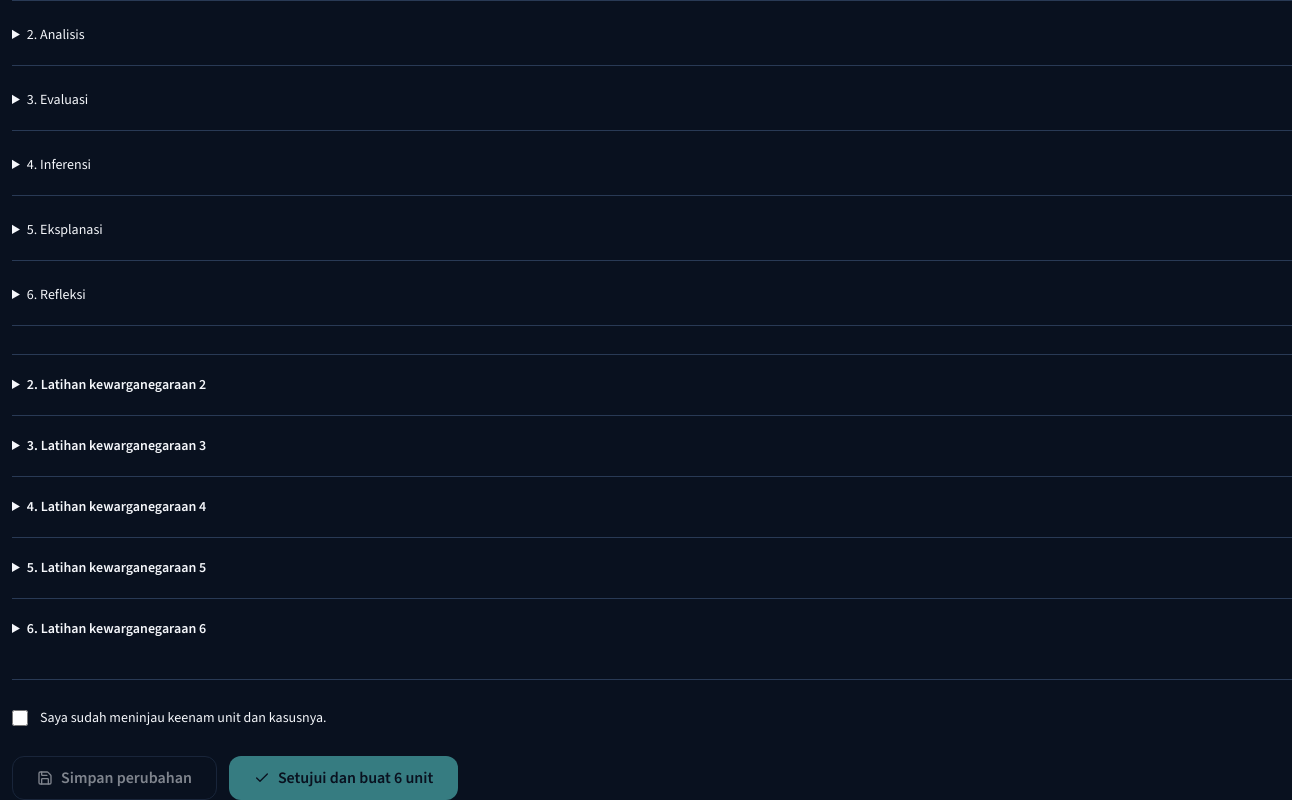
Test: pembuatan enam unit untuk dosen › tidak menerapkan otomatis sebelum dosen meninjau
The width and height of the screenshot is (1292, 800).
(page scrolled)
Expected: the button "Setujui dan buat 6 unit" is disabled, [229,756,458,799]
Click the checkbox labelled "Saya sudah meninjau keenam unit dan kasusnya.": (20, 718) [12,710,28,726]
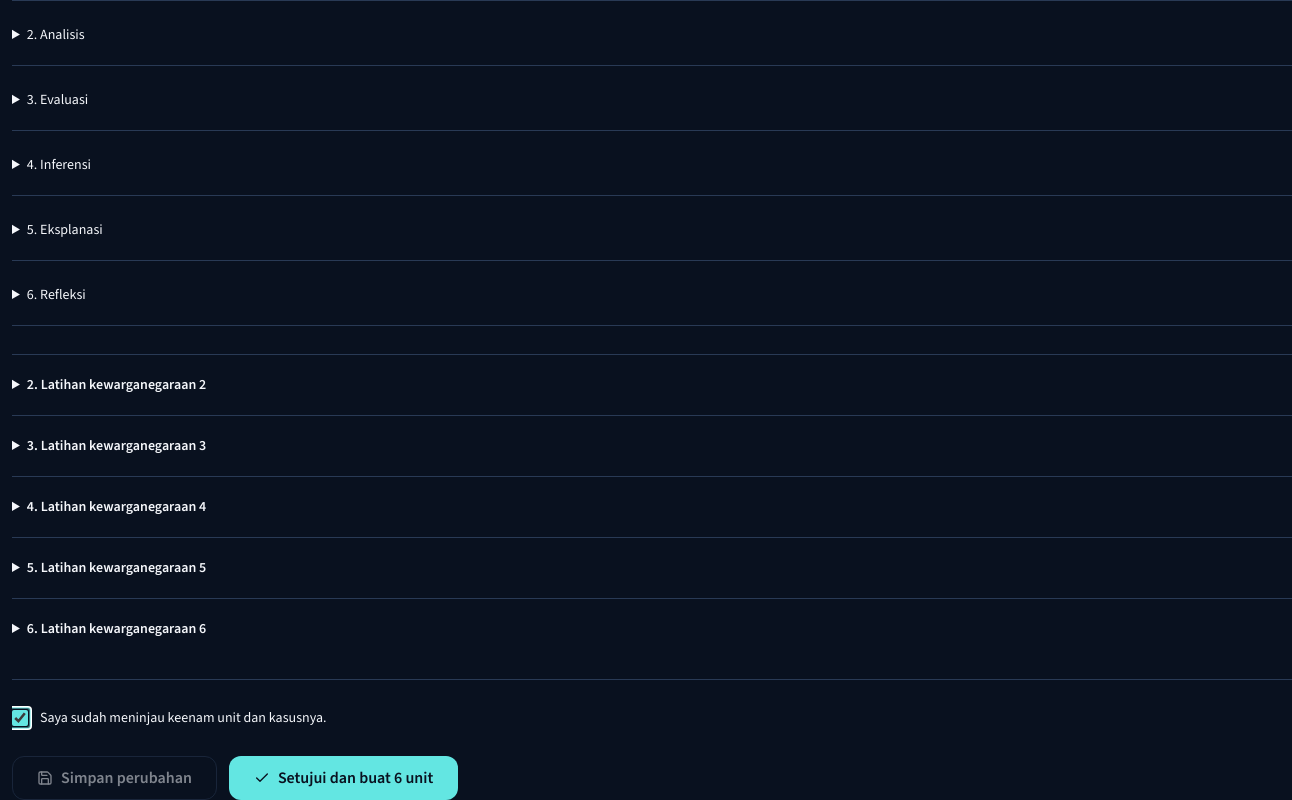
Click the button "Setujui dan buat 6 unit": (344, 778) [229,756,458,799]
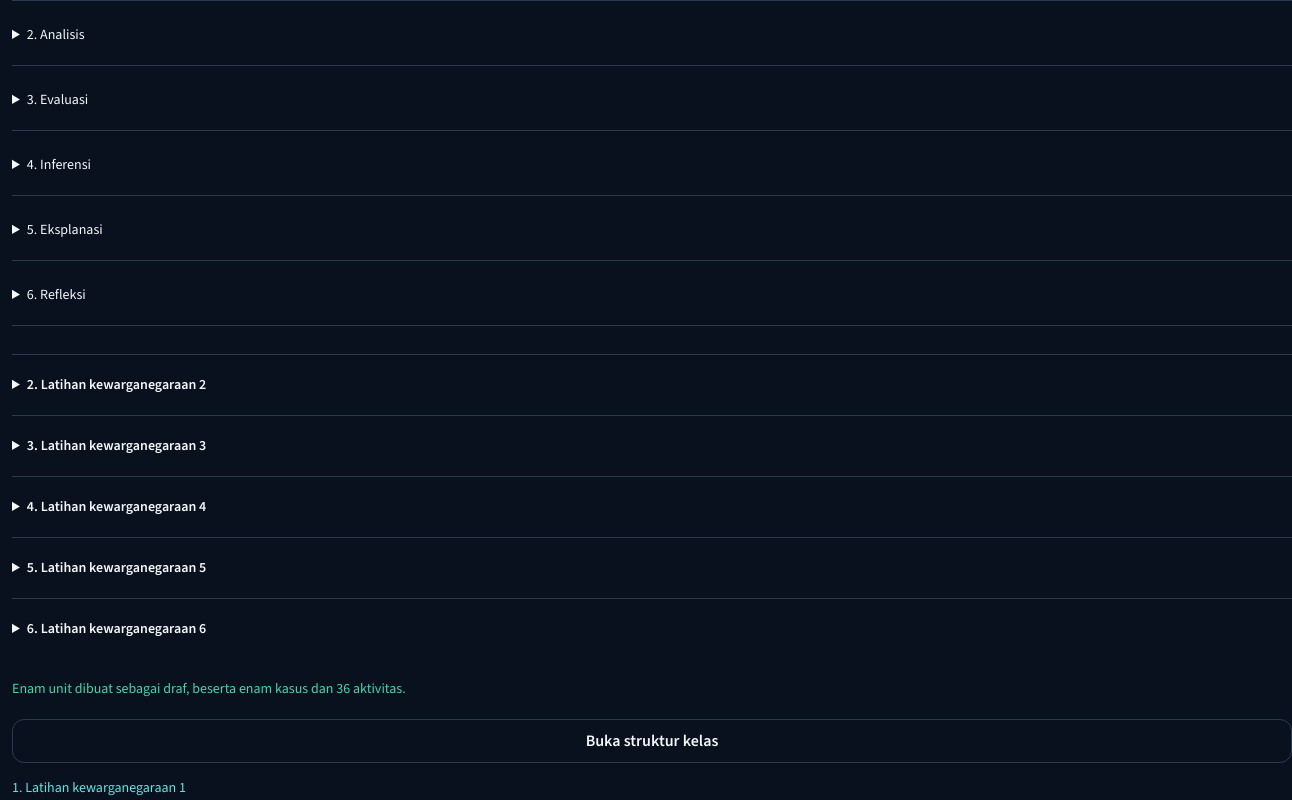
Expected: the text "Enam unit dibuat sebagai draf, beserta enam kasus dan 36 aktivitas." is shown, [12,679,406,698]
Expected: the link "Buka struktur kelas" is shown, [12,719,1291,763]
